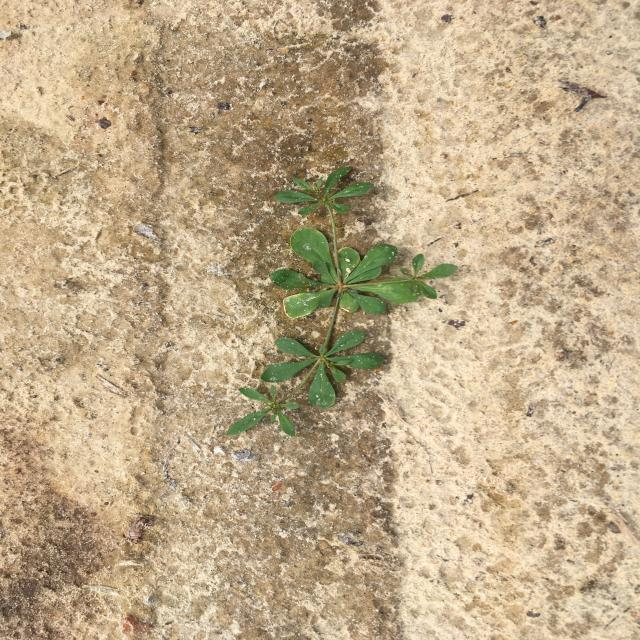Carpetweed: (226, 166, 458, 436)
